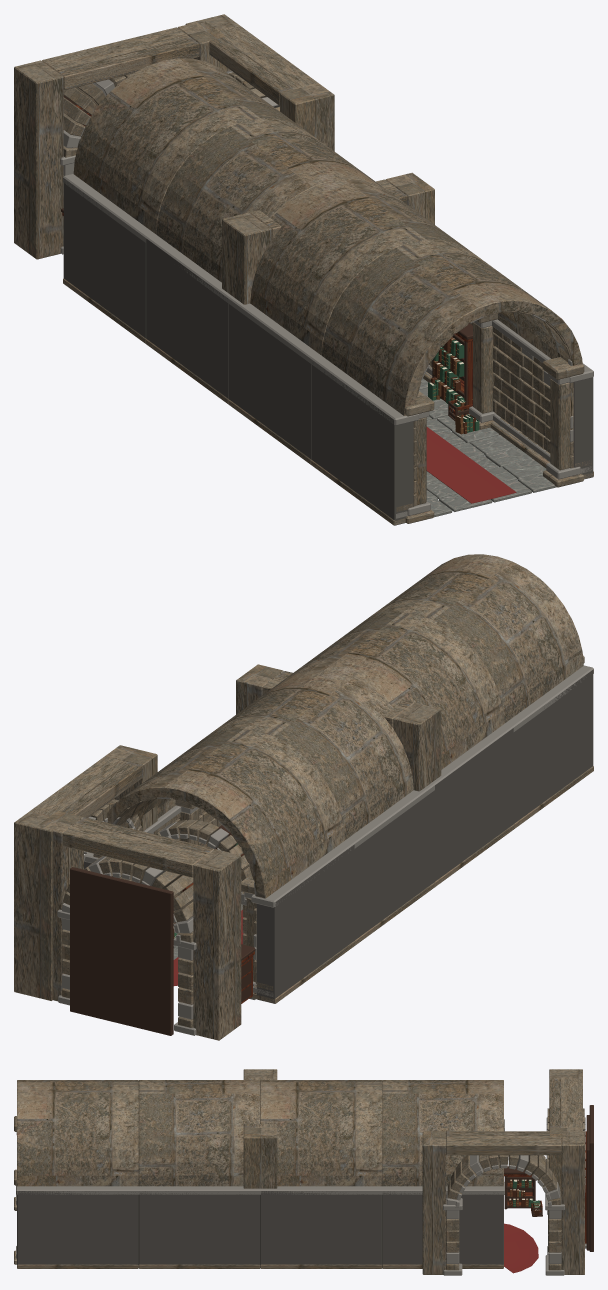
Rendered from entrance-asset-library.glb.
The picture shows the model from 3 angles, top to bottom: view 1: azimuth 30°, elevation 25°; view 2: azimuth 150°, elevation 25°; view 3: azimuth 270°, elevation 25°; orthographic projection. The views are drawn at different scales.
Visible parts, largest first — view 1: EntranceVault_00, EntranceVault_03, CorridorEndDeepArch, EntranceVault_01, EntranceVault_02, EntranceLeftWall_00, EntranceLeftWall_03, EntranceLeftWall_01, EntranceLeftWall_02, EntranceRightWall_00, TurningDeepArch, VestibuleDeepArch (+9 smaller); view 2: CorridorEndDeepArch, EntranceVault_03, EntranceVault_00, EntranceVault_02, CorridorEndDoor, EntranceVault_01, TurningDeepArch, EntranceLeftWall_03, EntranceLeftWall_00, EntranceLeftWall_02, EntranceLeftWall_01, VestibuleDeepArch (+5 smaller); view 3: TurningDeepArch, EntranceVault_00, EntranceVault_01, EntranceVault_02, EntranceRightWall_01, EntranceRightWall_02, EntranceRightWall_00, EntranceVault_03, EntranceRightWall_03, CorridorEndDeepArch, VestibuleDeepArch, EntranceRunner (+6 smaller).
Part boxes in pixels (x1=…): EntranceVault_00: x1=322, y1=240, x2=582, y2=415; EntranceVault_03: x1=73, y1=58, x2=302, y2=233; CorridorEndDeepArch: x1=14, y1=20, x2=227, y2=259; EntranceVault_01: x1=250, y1=179, x2=468, y2=355; EntranceVault_02: x1=156, y1=118, x2=384, y2=282; EntranceLeftWall_00: x1=311, y1=355, x2=418, y2=525; EntranceLeftWall_03: x1=63, y1=174, x2=155, y2=338; EntranceLeftWall_01: x1=228, y1=296, x2=321, y2=459; EntranceLeftWall_02: x1=146, y1=234, x2=232, y2=398; EntranceRightWall_00: x1=492, y1=319, x2=593, y2=479; TurningDeepArch: x1=185, y1=14, x2=334, y2=151; VestibuleDeepArch: x1=222, y1=172, x2=434, y2=304; CorridorEndDeepArch: x1=37, y1=811, x2=241, y2=1040; EntranceVault_03: x1=93, y1=729, x2=344, y2=898; EntranceVault_00: x1=363, y1=554, x2=583, y2=723; EntranceVault_02: x1=205, y1=670, x2=413, y2=840; CorridorEndDoor: x1=70, y1=867, x2=173, y2=1035; EntranceVault_01: x1=284, y1=612, x2=503, y2=769; TurningDeepArch: x1=14, y1=745, x2=157, y2=1000; EntranceLeftWall_03: x1=251, y1=840, x2=354, y2=1003; EntranceLeftWall_00: x1=504, y1=665, x2=593, y2=823; EntranceLeftWall_02: x1=345, y1=783, x2=434, y2=940; EntranceLeftWall_01: x1=431, y1=724, x2=513, y2=881; VestibuleDeepArch: x1=236, y1=664, x2=441, y2=791; TurningDeepArch: x1=422, y1=1131, x2=584, y2=1275; EntranceVault_00: x1=17, y1=1080, x2=138, y2=1186; EntranceVault_01: x1=138, y1=1080, x2=260, y2=1186; EntranceVault_02: x1=260, y1=1080, x2=382, y2=1186; EntranceRightWall_01: x1=138, y1=1186, x2=260, y2=1264; EntranceRightWall_02: x1=260, y1=1186, x2=382, y2=1264; EntranceRightWall_00: x1=16, y1=1185, x2=138, y2=1264; EntranceVault_03: x1=382, y1=1080, x2=503, y2=1186; EntranceRightWall_03: x1=382, y1=1182, x2=504, y2=1264; CorridorEndDeepArch: x1=546, y1=1069, x2=585, y2=1254; VestibuleDeepArch: x1=243, y1=1069, x2=277, y2=1188; EntranceRunner: x1=504, y1=1223, x2=538, y2=1273.
Bounding box in the file's own units: 6.92 × 6.02 × 21.44.
20 materials, 4 textured.
